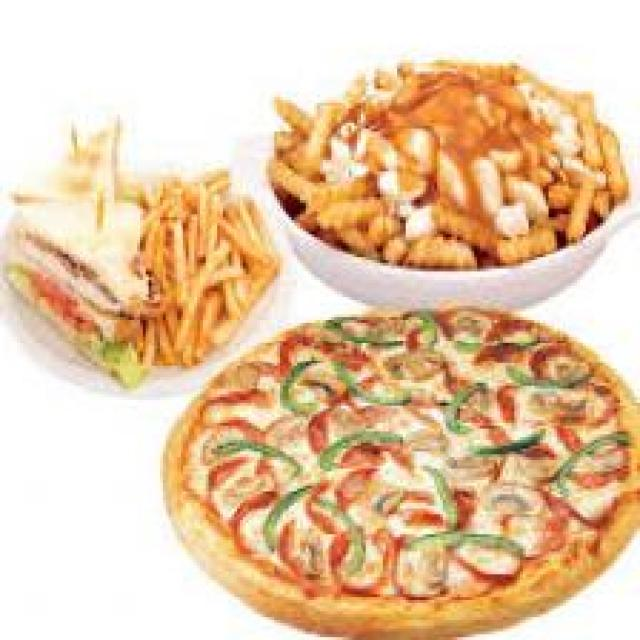French Fries: (140, 157, 271, 363)
Sandwich: (11, 104, 140, 367)
